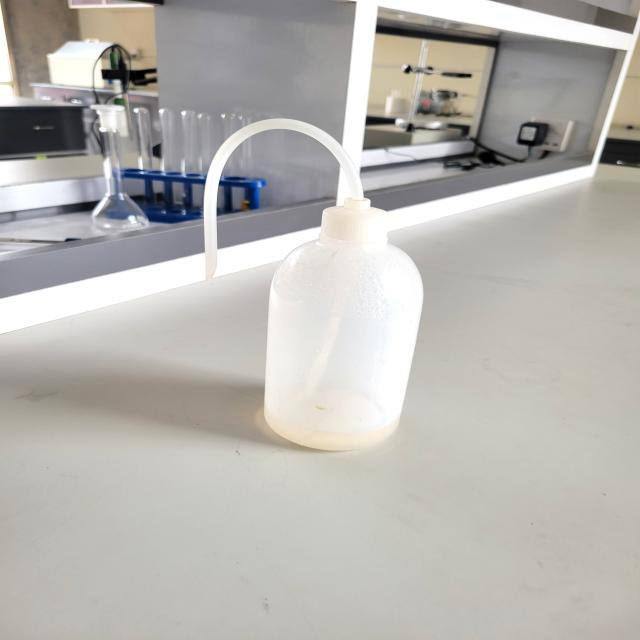Wash_Bottle: (190, 109, 442, 487)
